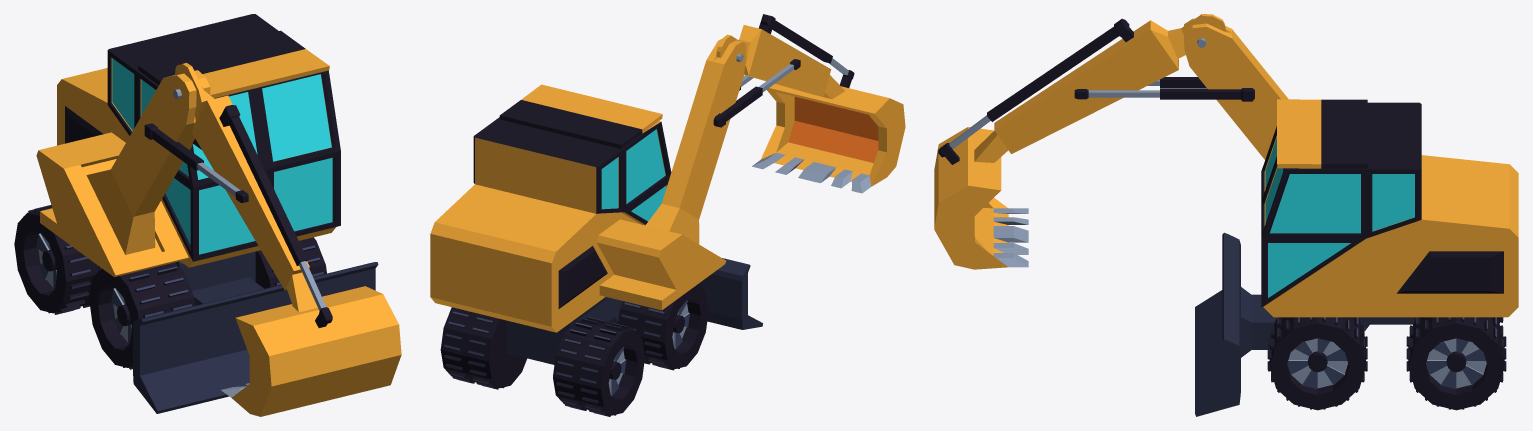
Rendered from vinc.fbx.
3 views of the same model, side by side, from view 1: azimuth 30°, elevation 25°; view 2: azimuth 150°, elevation 25°; view 3: azimuth 270°, elevation 25° (orthographic). The views are drawn at different scales.
Parts seen in each view (by area): view 1: vinc; view 2: vinc; view 3: vinc.
Part boxes in pixels (left/top/right/bottom): vinc: left=14, top=14, right=401, bottom=416; vinc: left=430, top=14, right=905, bottom=416; vinc: left=934, top=14, right=1518, bottom=416.
Bounding box in the file's own units: 3.68 × 4.59 × 7.66.
